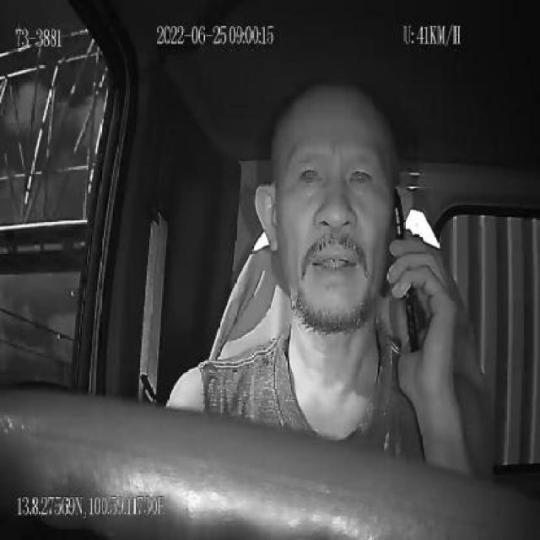phone: (392, 189, 420, 353)
